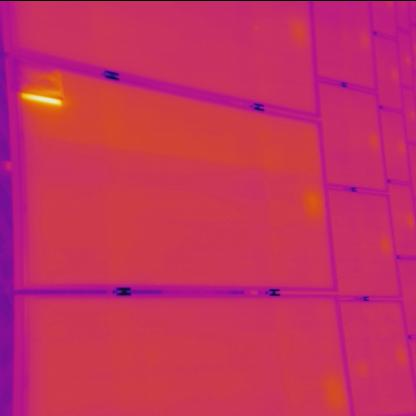hotspot: (17, 53, 67, 111)
